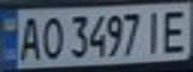3: (66, 11, 90, 58)
4: (87, 11, 109, 57)
7: (121, 9, 145, 56)
9: (103, 10, 127, 57)
A: (15, 12, 45, 62)
E: (157, 6, 193, 55)
I: (142, 7, 169, 55)
O: (36, 14, 66, 61)
